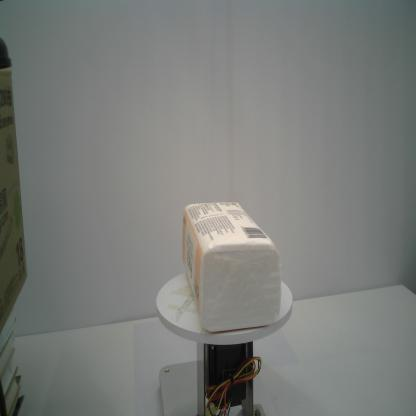Tissue: (182, 201, 283, 332)
